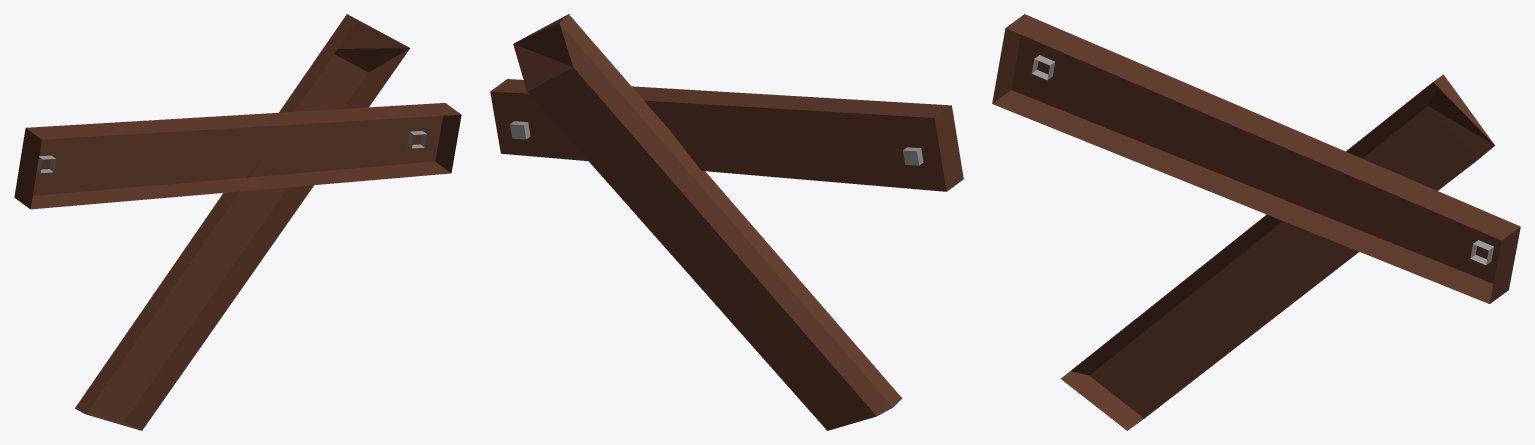
The model's file is Debris 01.FBX.
3 views of the same model, side by side, from view 1: azimuth 30°, elevation 25°; view 2: azimuth 150°, elevation 25°; view 3: azimuth 330°, elevation 25° (orthographic). The views are drawn at different scales.
Parts seen in each view (by area): view 1: Debris 01; view 2: Debris 01; view 3: Debris 01.
Boxes of the visible parts, <box> form: Debris 01: <box>14,14,461,430</box>; Debris 01: <box>490,14,963,430</box>; Debris 01: <box>992,14,1520,430</box>.
Size of the model in its own units: 249 by 188 by 37.23.
Materials: 1 (1 with a texture image).
